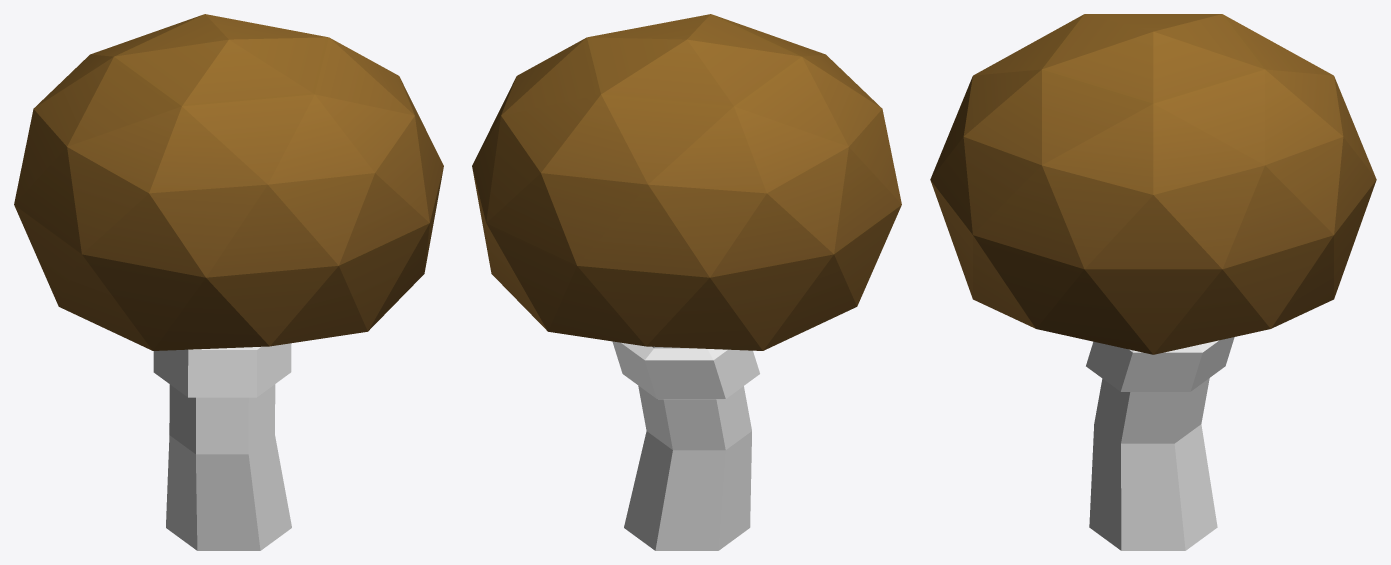
Rendered from Mushroom_02.fbx.
3 views of the same model, side by side, from view 1: azimuth 30°, elevation 25°; view 2: azimuth 150°, elevation 25°; view 3: azimuth 270°, elevation 25° (orthographic).
Parts seen in each view (by area): view 1: Mushroom_02; view 2: Mushroom_02; view 3: Mushroom_02.
Part boxes in pixels (x1,y1,x2,y2): Mushroom_02: (14,14,443,550); Mushroom_02: (472,14,901,550); Mushroom_02: (930,14,1376,550).
Size of the model in its own units: 0.3816 by 0.4917 by 0.4012.
